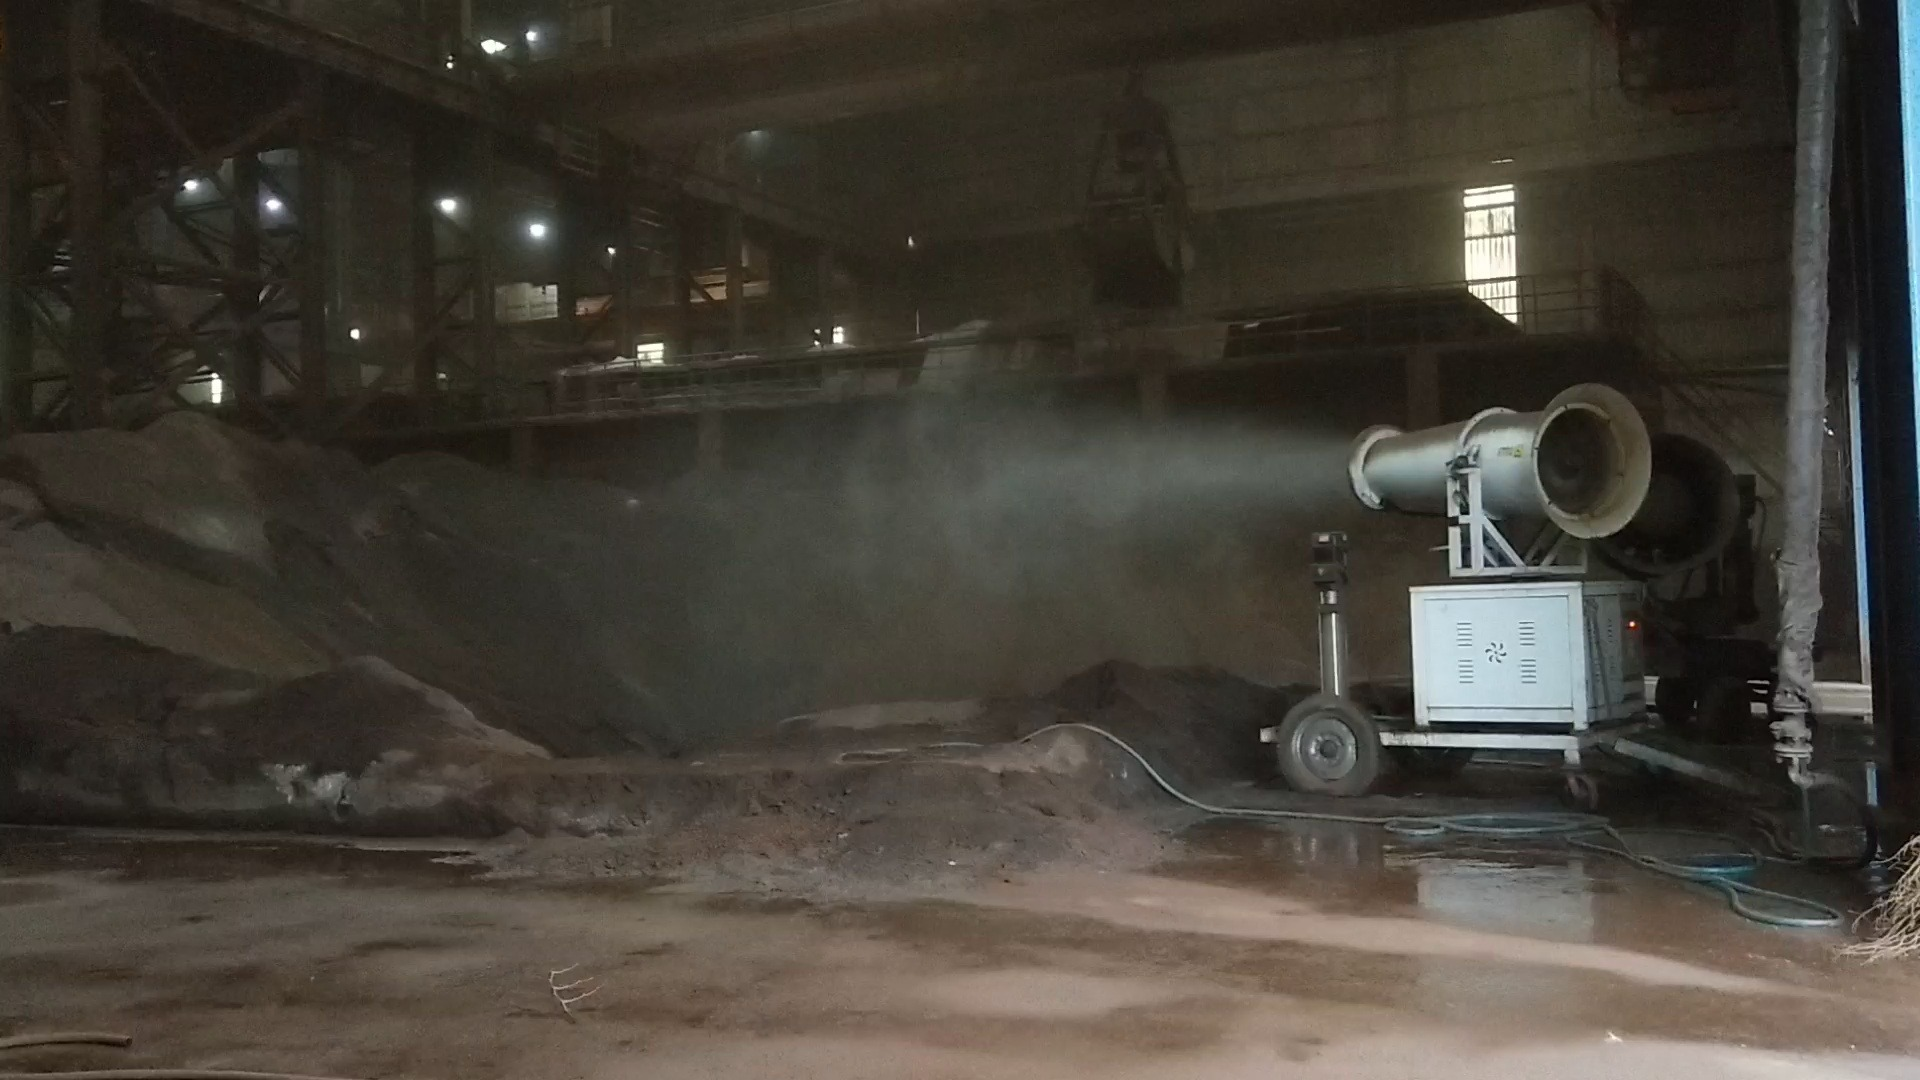dust: (621, 376, 1335, 700)
grab: (1063, 73, 1216, 310)
